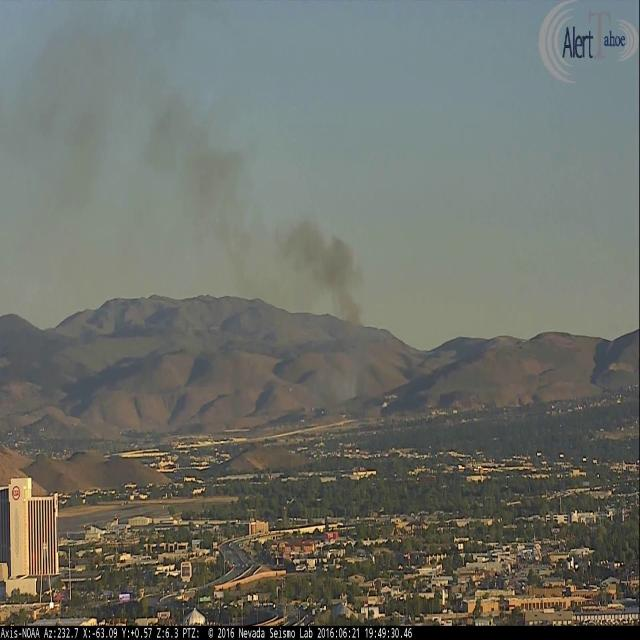smoke: (0, 2, 372, 396)
